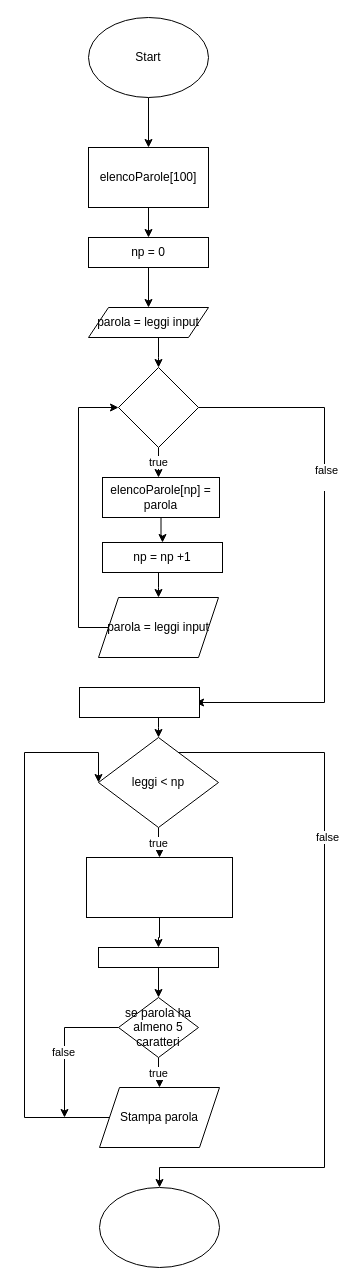
Image size: 356x1285. Some labels were removed from this diagram. The centre of each missing label's shape, as x and y in pixels:
"fine" goes at pixel 159 1227.
"leggi = 0" goes at pixel 139 702.
"leggi = leggi +1" goes at pixel 158 957.
"parola = elencoParole[leggi]" goes at pixel 159 887.
"parola diversa da fine" goes at pixel 158 407.
